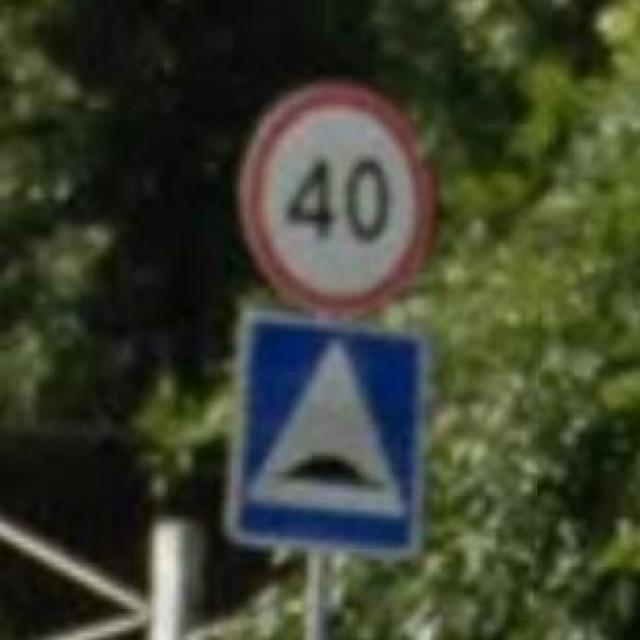road_rough: (225, 310, 430, 560)
speed_limit_40: (238, 82, 437, 319)
